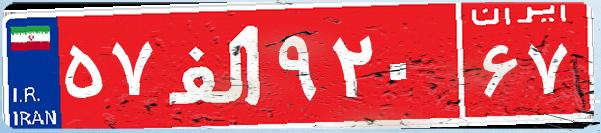0: (385, 28, 445, 110)
2: (330, 28, 385, 110)
5: (57, 26, 110, 107)
6: (475, 38, 525, 113)
7: (110, 28, 158, 105), (525, 38, 570, 115)
9: (273, 28, 330, 110)
الف: (158, 15, 273, 115)
